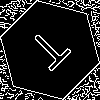T: (25, 25, 79, 79)
